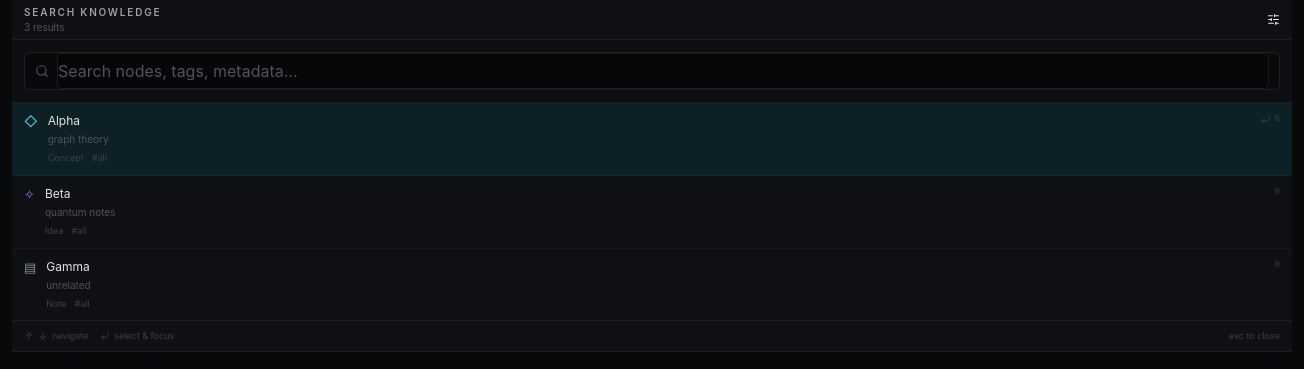
Test case: SearchPanel › debounces the query and narrows the results
In the field named "Search knowledge": (663, 71) [57,53,1269,89], type "Alpha"
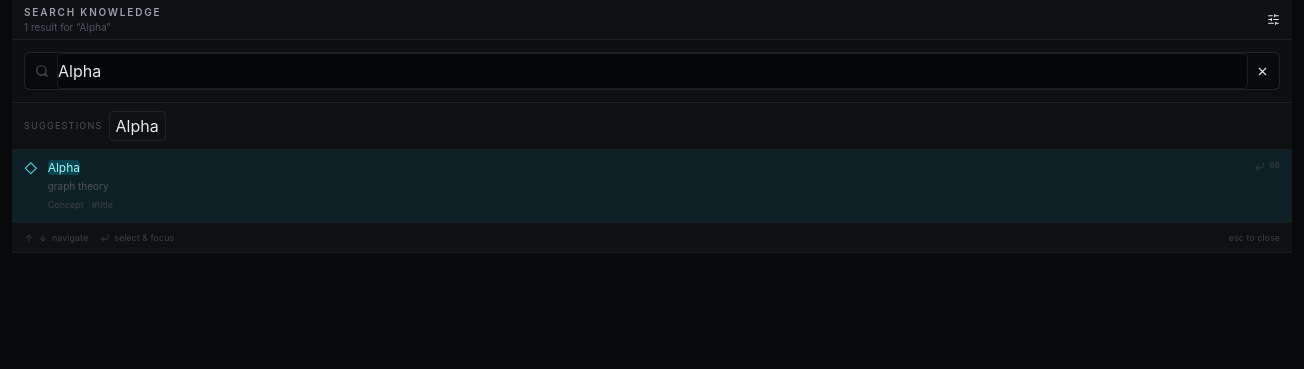
Check: the text "1 result for “Alpha”" is shown, box [24,20,111,32]
Check: the number of buttons with test id "search-result" is 1, box [12,150,1292,222]
Check: the button "Beta" is gone
